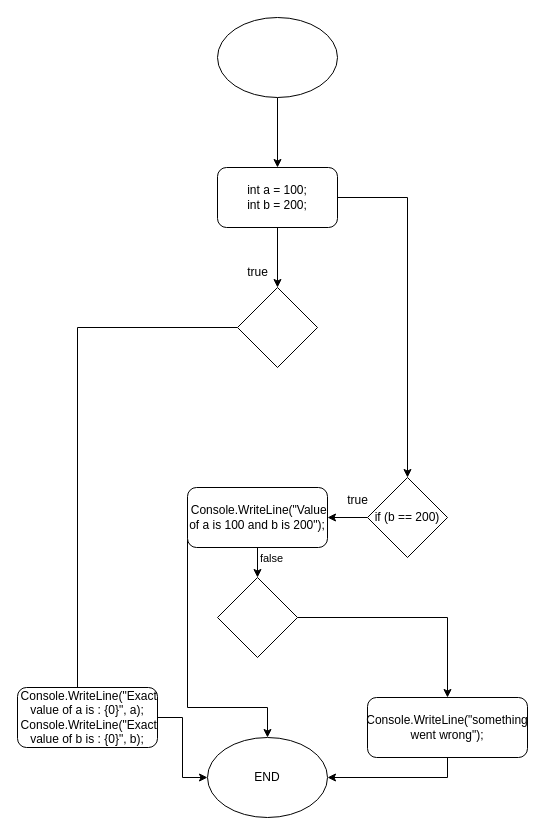
Some shapes in this 545 by 835 pixel diagram are drawn without their labels. The shapes that lost their labels are listed below. From the top down, each one's box as (x1, y1, x2, y2) in pixels, then its label:
(216, 16, 338, 98): START
(236, 286, 318, 368): if (a == 100)
(216, 576, 298, 658): else
